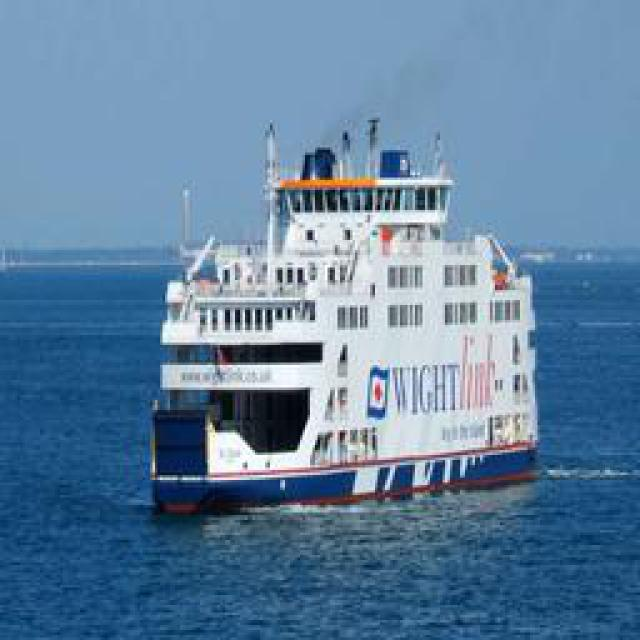Ship: (149, 111, 554, 516)
